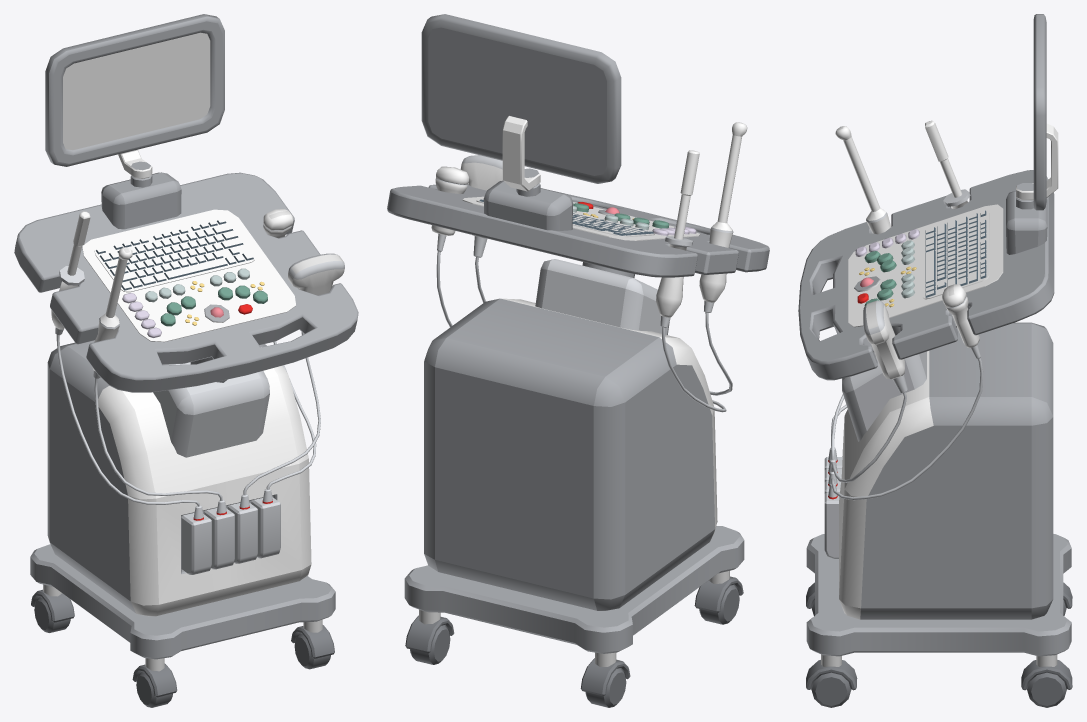
The model's file is Ultrasound_machine.fbx.
The picture shows the model from 3 angles, left to right: view 1: azimuth 30°, elevation 25°; view 2: azimuth 150°, elevation 25°; view 3: azimuth 270°, elevation 25°; orthographic projection. The views are drawn at different scales.
Visible parts, largest first — view 1: Ultrasound_machine; view 2: Ultrasound_machine; view 3: Ultrasound_machine.
Part boxes in pixels (bbox=[...]): Ultrasound_machine: bbox=[14, 14, 358, 707]; Ultrasound_machine: bbox=[387, 14, 769, 707]; Ultrasound_machine: bbox=[798, 14, 1072, 707].
Bounding box in the file's own units: 0.5918 × 1.28 × 0.521.
